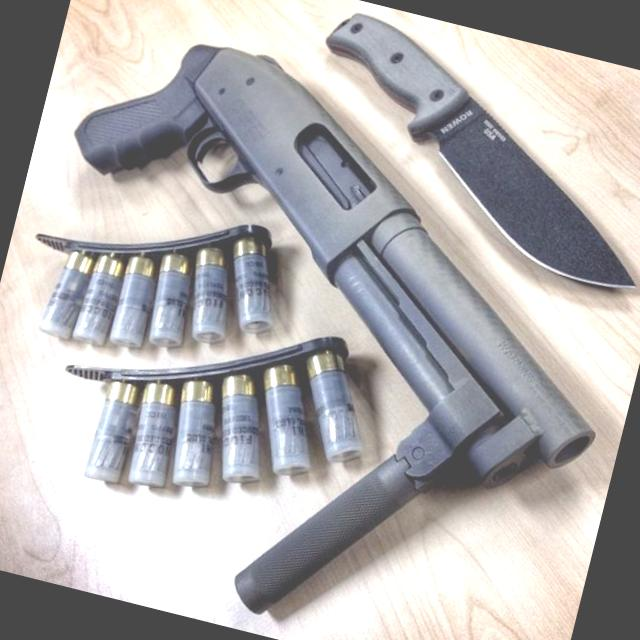shotgun: (15, 8, 640, 507)
